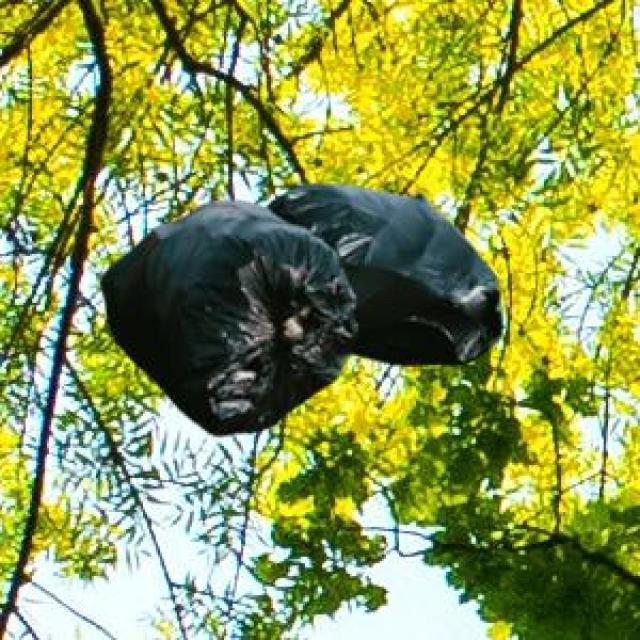Garbage_Bag: (97, 180, 500, 432)
